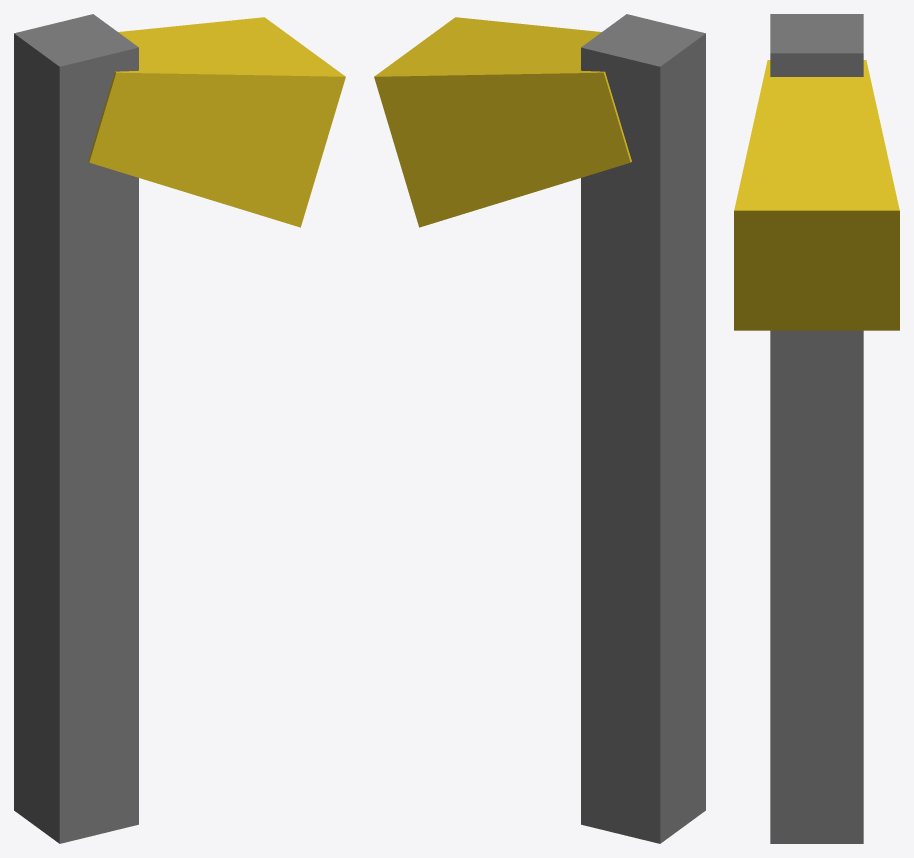
The model's file is lazer stand .fbx.
The picture shows the model from 3 angles, left to right: view 1: azimuth 30°, elevation 25°; view 2: azimuth 150°, elevation 25°; view 3: azimuth 270°, elevation 25°; orthographic projection.
Parts seen in each view (by area): view 1: Cube.013, Cube.012; view 2: Cube.013, Cube.012; view 3: Cube.013, Cube.012.
Boxes of the visible parts, left/top/right/bottom form: Cube.013: left=14, top=14, right=138, bottom=843; Cube.012: left=88, top=17, right=345, bottom=227; Cube.013: left=581, top=14, right=705, bottom=843; Cube.012: left=374, top=17, right=631, bottom=227; Cube.013: left=770, top=14, right=863, bottom=843; Cube.012: left=734, top=60, right=899, bottom=330.
Size of the model in its own units: 193 by 534 by 101.
